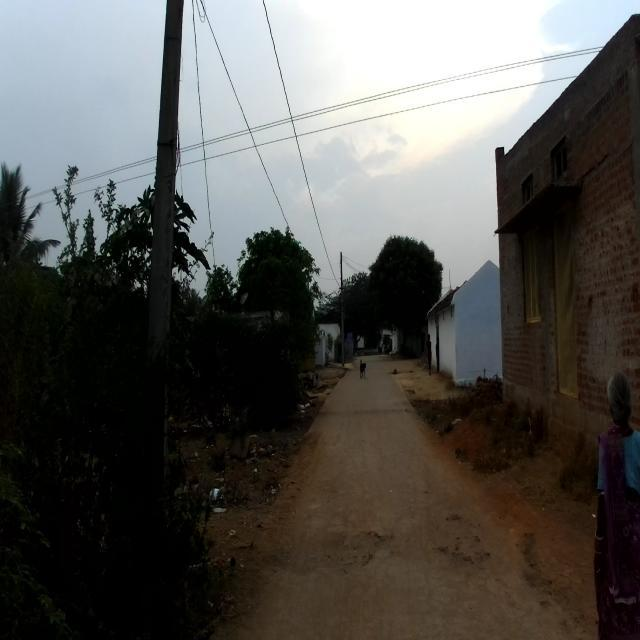pothole: (274, 474, 392, 620), (398, 486, 505, 640), (516, 508, 580, 640)
